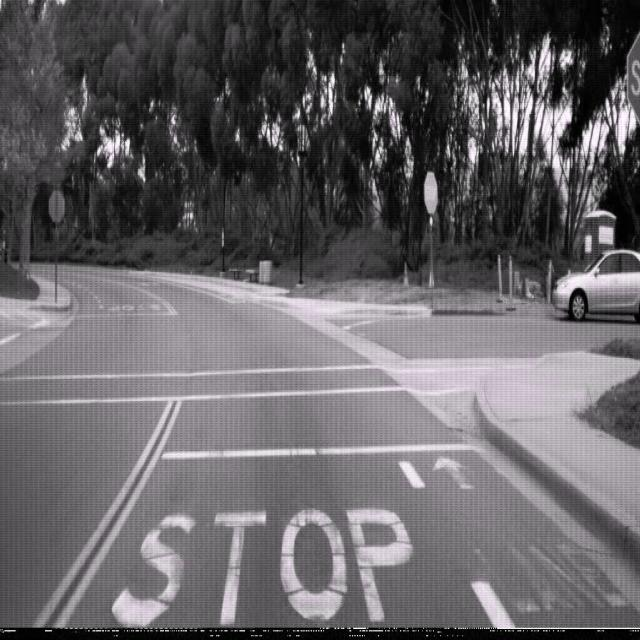stop: (424, 170, 438, 214)
